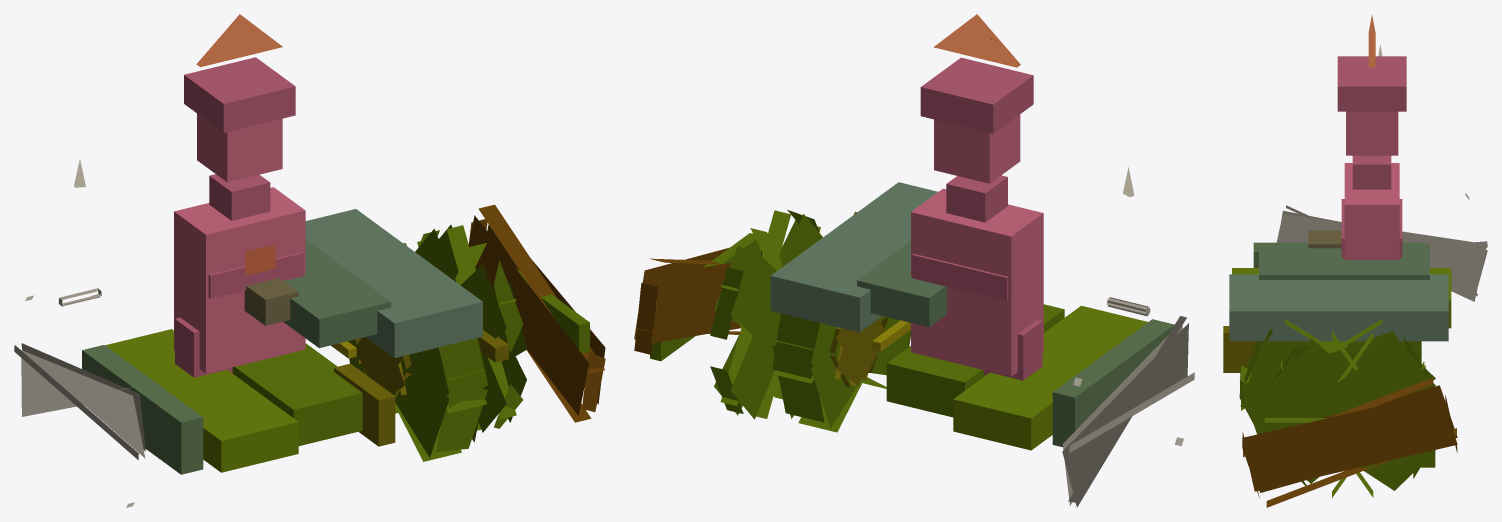
Rendered from takeda-04.glb.
The picture shows the model from 3 angles, left to right: view 1: azimuth 30°, elevation 25°; view 2: azimuth 150°, elevation 25°; view 3: azimuth 270°, elevation 25°; orthographic projection. The views are drawn at different scales.
Visible parts, largest first — view 1: samurai; view 2: samurai; view 3: samurai.
Boxes of the visible parts, left/top/right/bottom form: samurai: left=14, top=14, right=605, bottom=507; samurai: left=634, top=14, right=1194, bottom=507; samurai: left=1223, top=14, right=1487, bottom=507.
Bounding box in the file's own units: 1.68 × 1.56 × 0.9598.
